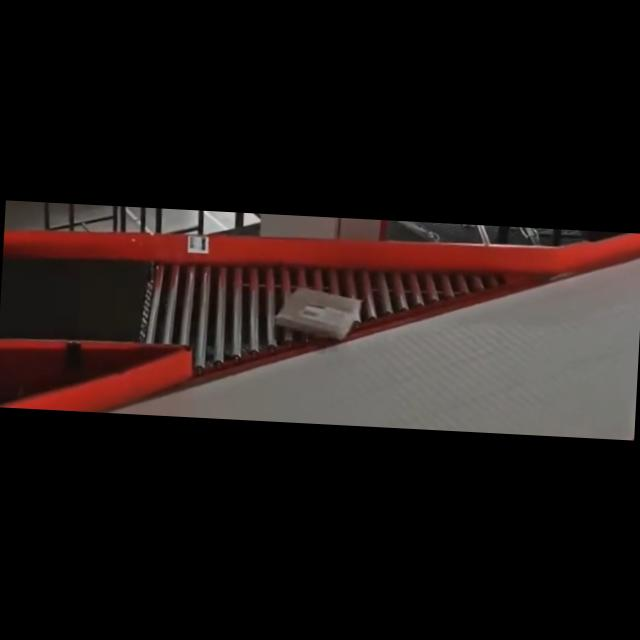box: (274, 286, 358, 342)
